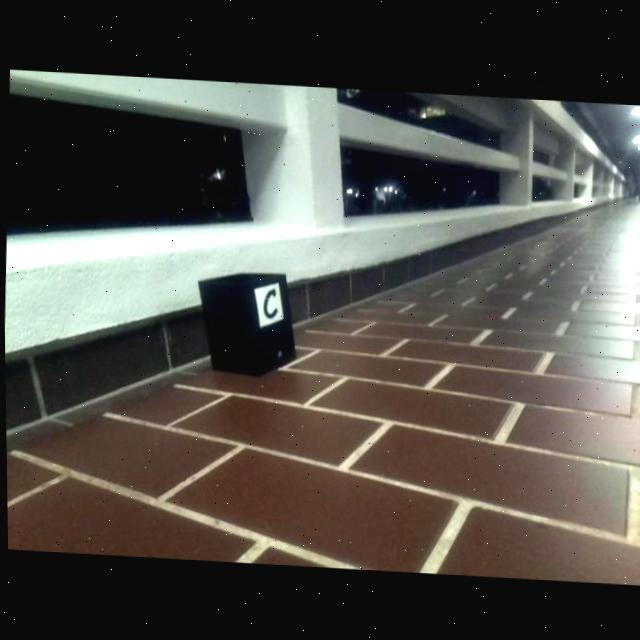C: (262, 288, 277, 318)
